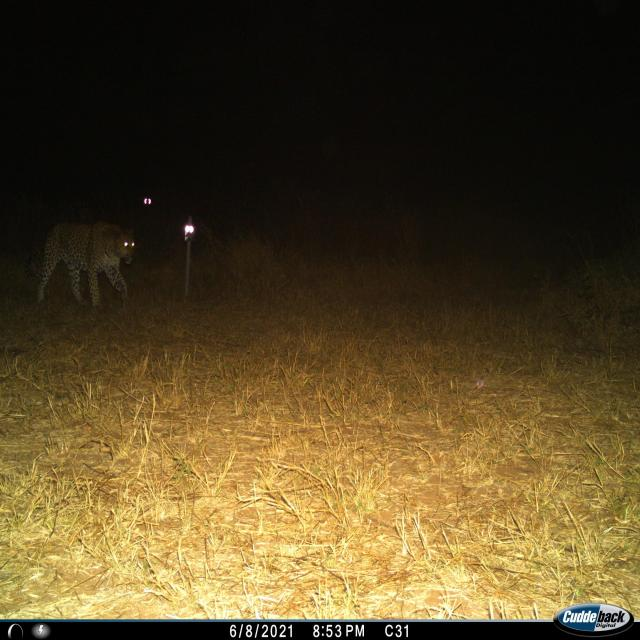Leopard: (14, 219, 136, 317)
